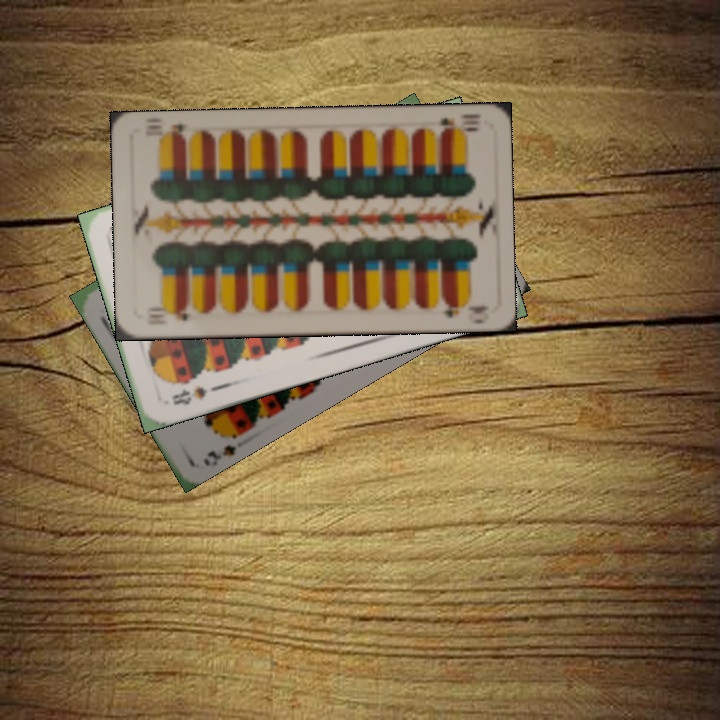E10: (436, 114, 481, 138), (146, 303, 190, 323)
S8: (168, 381, 210, 408)
S9: (199, 423, 247, 469)
